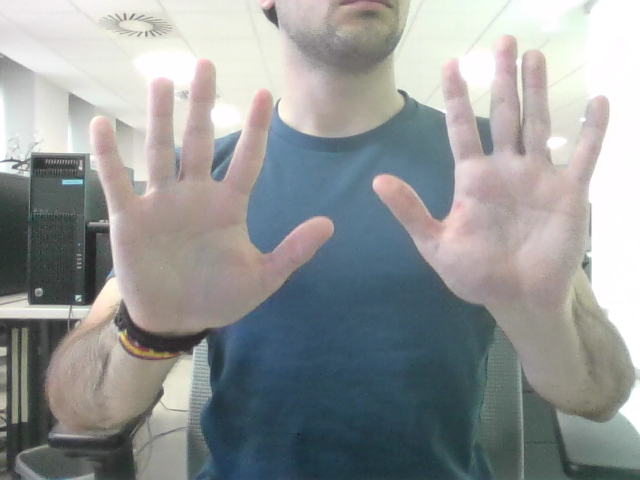Manos Arriba: (126, 59, 576, 294)
